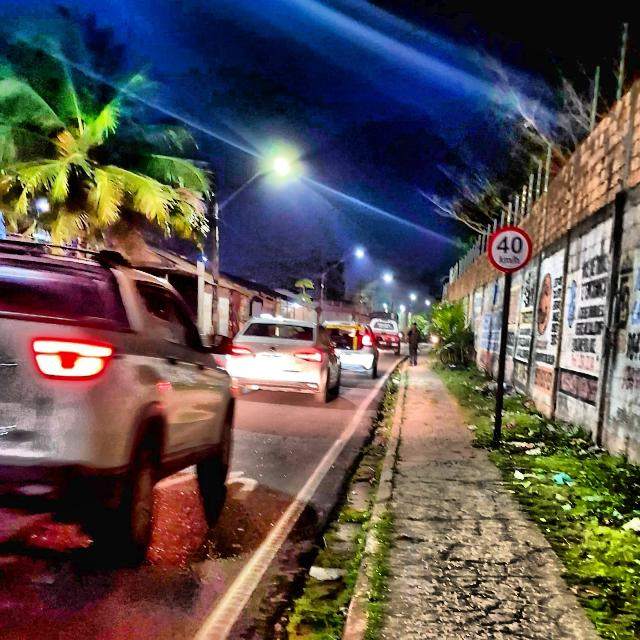carro: (0, 256, 247, 522), (213, 280, 360, 415)
